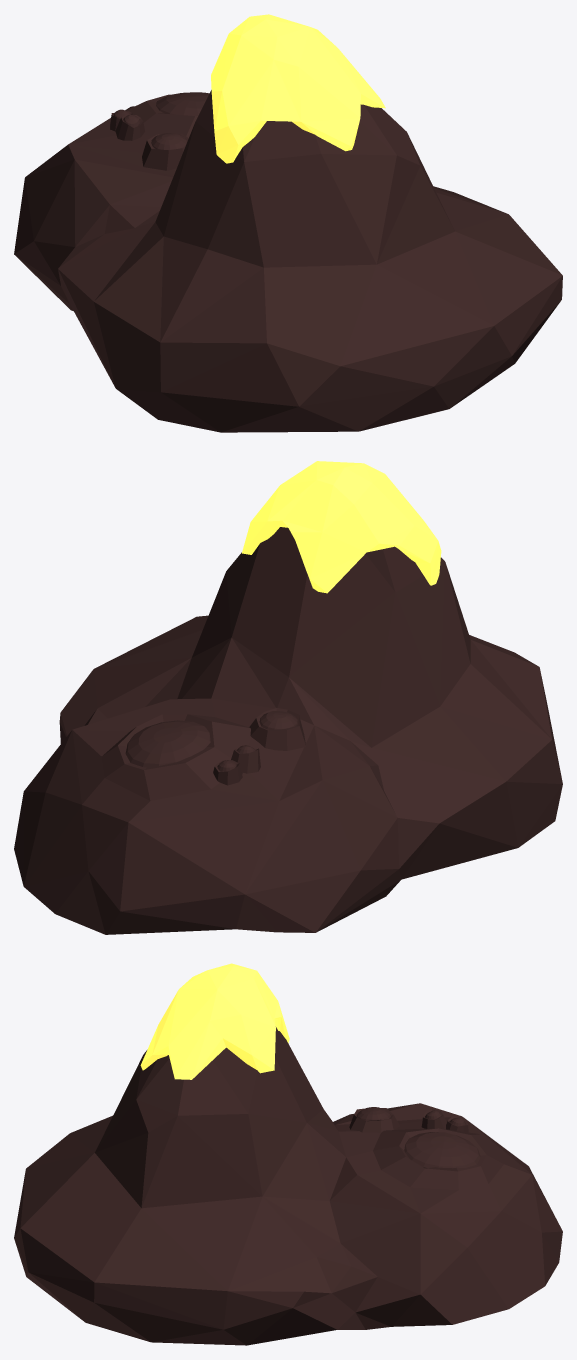
File: NIO--valcanoRock.fbx
The picture shows the model from 3 angles, top to bottom: view 1: azimuth 30°, elevation 25°; view 2: azimuth 150°, elevation 25°; view 3: azimuth 270°, elevation 25°; orthographic projection. The views are drawn at different scales.
Parts seen in each view (by area): view 1: NIO-ValcanoStone4; view 2: NIO-ValcanoStone4; view 3: NIO-ValcanoStone4.
Boxes of the visible parts, box(x1,y1,x2,y2) form: NIO-ValcanoStone4: box(14, 14, 562, 432); NIO-ValcanoStone4: box(14, 461, 562, 934); NIO-ValcanoStone4: box(14, 963, 562, 1345).
Size of the model in its own units: 182 by 151 by 244.
